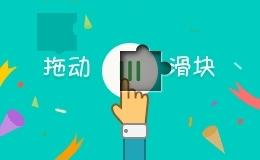target: (100, 31, 141, 71)
